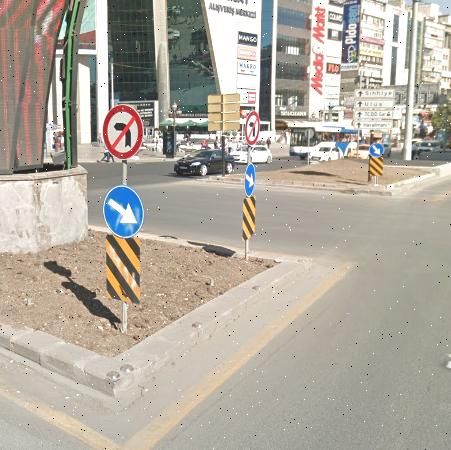leftturnsareforbidden: (102, 105, 144, 159), (245, 110, 260, 144)
